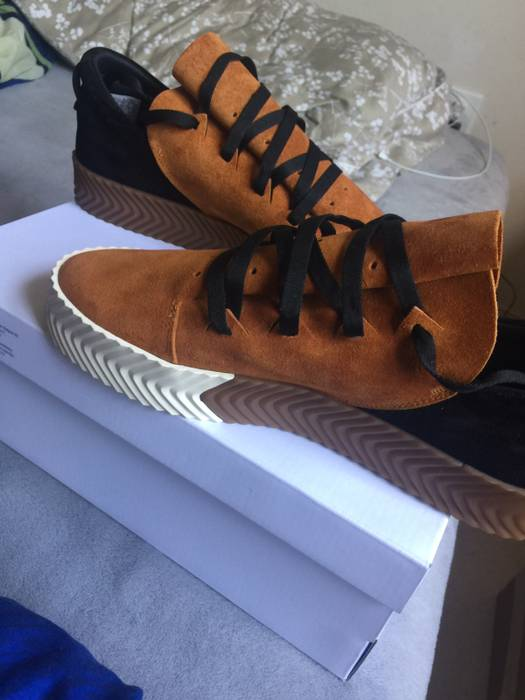adidas AW Skate Sand: (40, 201, 525, 543), (48, 28, 436, 253)
